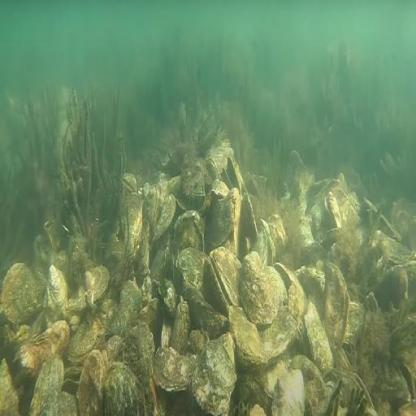3: (394, 360, 415, 403), (222, 154, 241, 196)
Oyster- Indeterminate: (335, 370, 378, 416), (205, 156, 223, 182), (63, 380, 81, 395)
Oyster-Closed: (229, 263, 293, 365), (192, 335, 238, 415), (111, 323, 153, 392), (239, 255, 279, 327), (2, 262, 46, 324), (182, 284, 227, 339), (103, 362, 148, 416), (324, 259, 351, 346), (30, 355, 67, 416), (66, 312, 103, 371), (207, 191, 240, 252), (305, 306, 332, 379), (155, 349, 198, 391), (76, 354, 105, 416), (173, 208, 206, 260), (211, 245, 241, 302), (204, 259, 234, 316), (272, 371, 306, 416), (175, 245, 209, 288), (122, 196, 143, 264), (47, 266, 67, 323), (39, 390, 79, 416), (86, 263, 109, 307), (242, 185, 258, 248), (392, 196, 416, 238), (154, 193, 175, 239), (379, 237, 411, 263), (170, 302, 182, 353), (254, 227, 267, 264)
